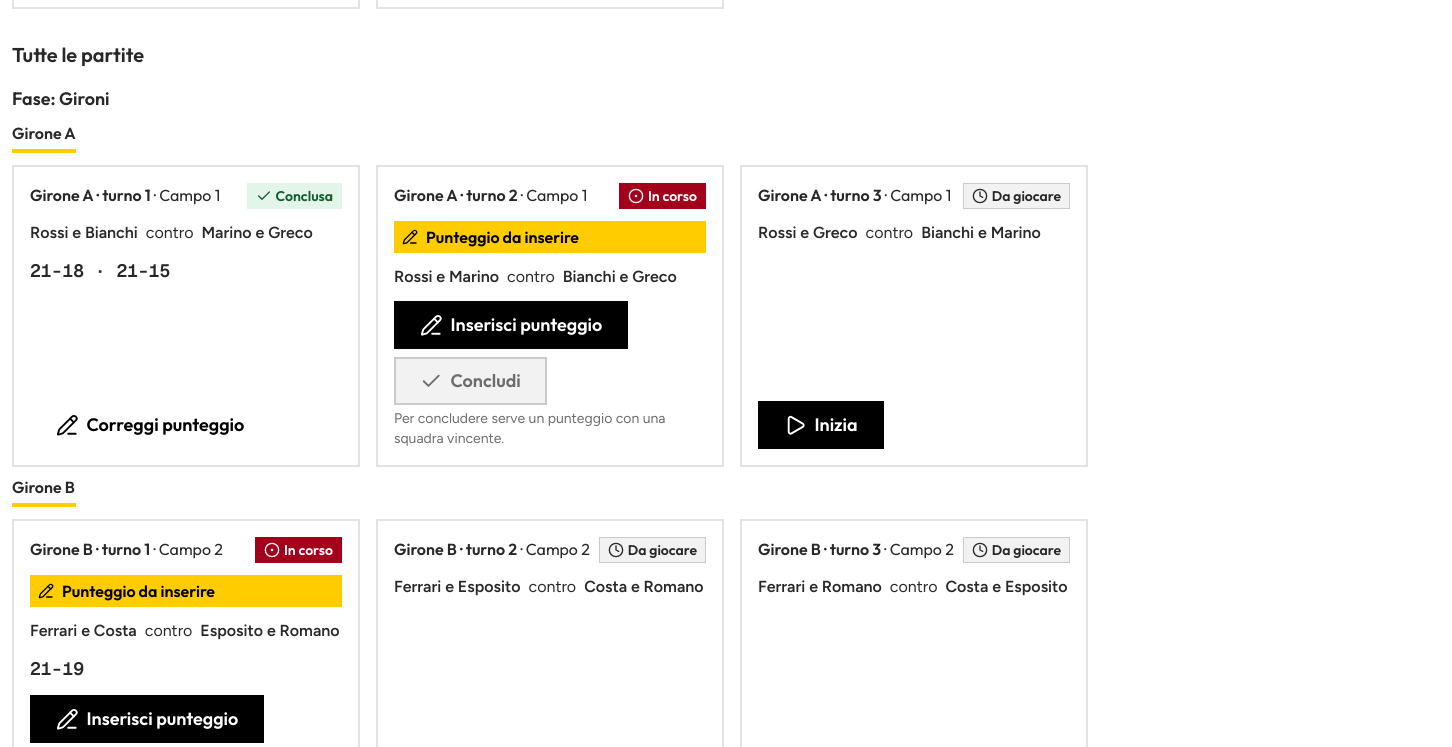
AdminLive (w-admin-live) › «Inizia» invia la partita e sposta il fuoco sull'esito
This screenshot has width=1452, height=747.
(page scrolled)
Click the button with aria-label "Inizia: Girone A · turno 3" at (821,425), box [758,401,884,449]
(page scrolled)
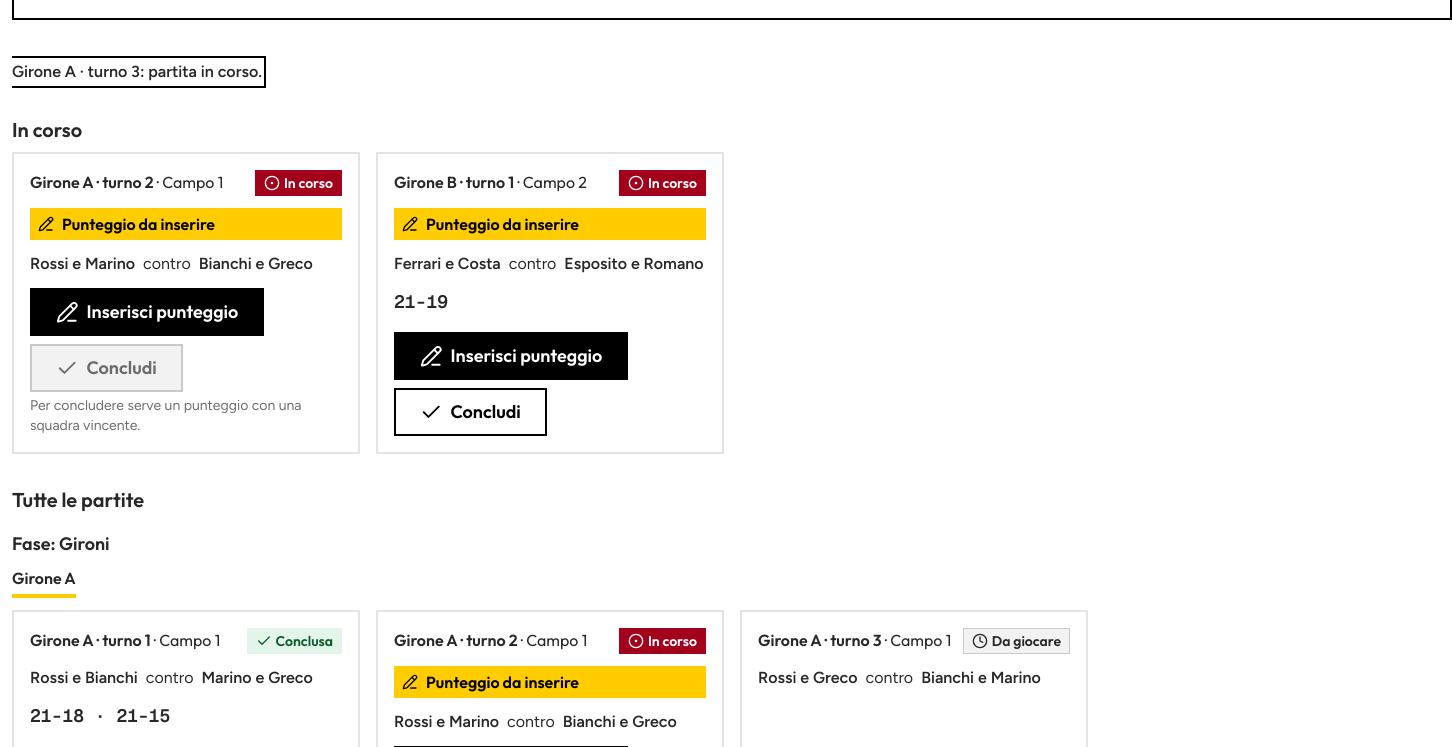
Now the text with test id "admin-live-esito" reads "Girone A · turno 3: partita in corso.", box [12,62,262,81]
